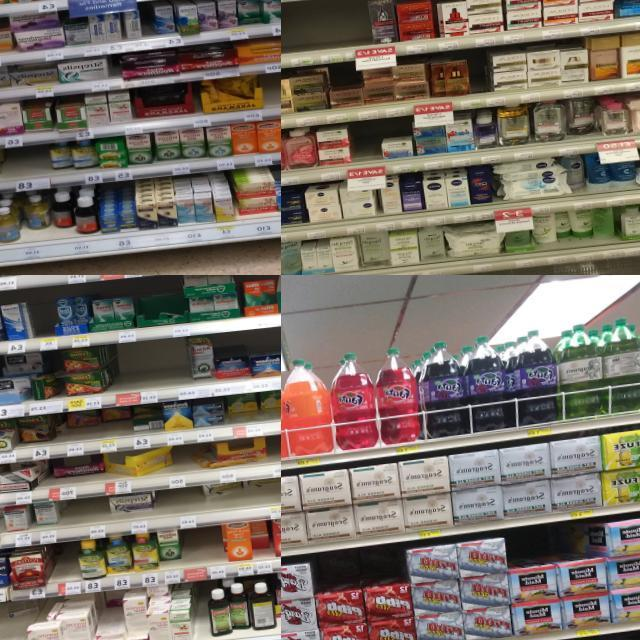Imprecise: (0, 346, 45, 404), (20, 194, 74, 242), (58, 348, 106, 396), (204, 480, 277, 510), (222, 391, 282, 427), (40, 456, 104, 488), (56, 408, 99, 442), (12, 417, 54, 450), (356, 230, 392, 268), (99, 590, 126, 640), (191, 337, 215, 388), (98, 405, 134, 439), (105, 494, 154, 518), (11, 63, 58, 85), (157, 528, 180, 570), (248, 520, 271, 561), (565, 154, 586, 196), (32, 500, 58, 530), (6, 600, 42, 618)
